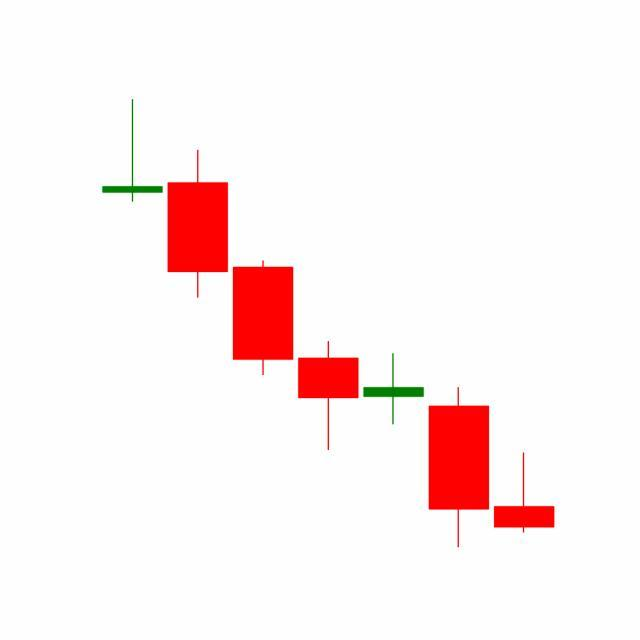Hikkake Pattern: (165, 146, 492, 549)
